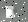person: (8, 7, 18, 19)
